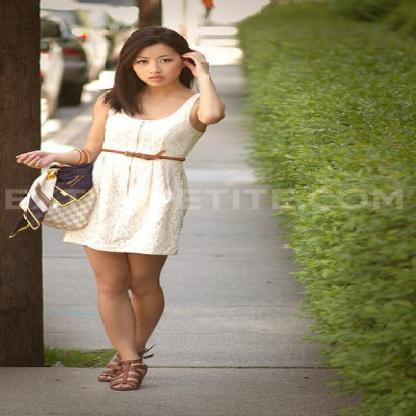bag: (19, 158, 98, 238)
dress: (63, 97, 201, 255)
shoe: (98, 350, 168, 390)
